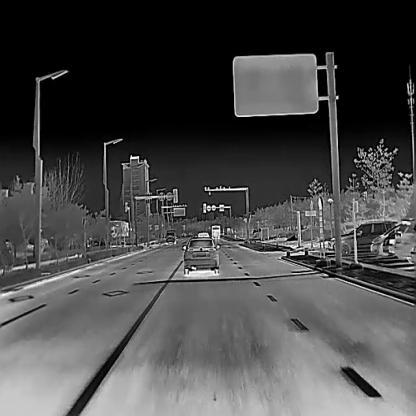car: (328, 219, 396, 255), (182, 234, 219, 274), (165, 228, 176, 244), (211, 224, 220, 238)
